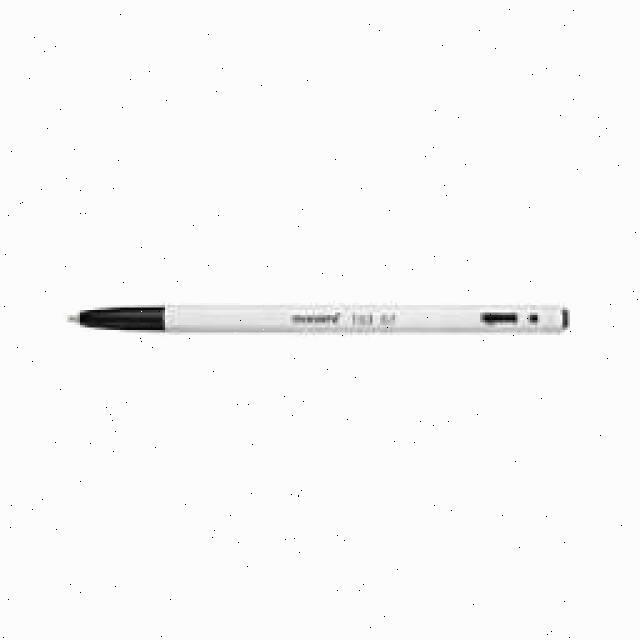pen: (60, 300, 568, 345)
